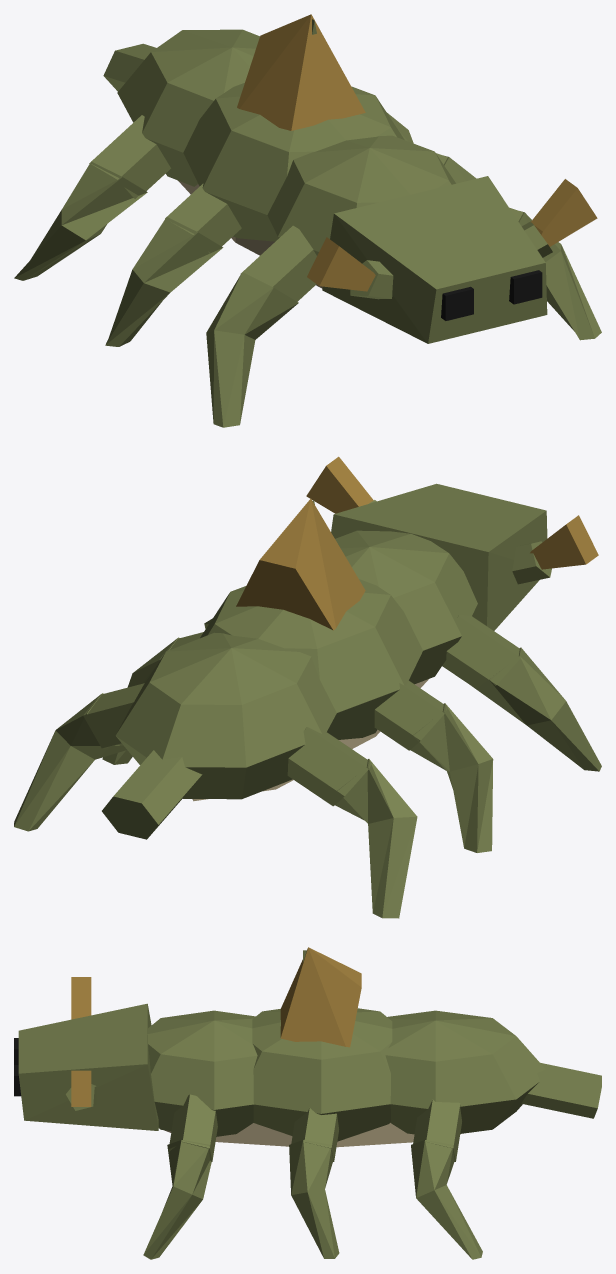
The model's file is budriv.glb.
The picture shows the model from 3 angles, top to bottom: view 1: azimuth 30°, elevation 25°; view 2: azimuth 150°, elevation 25°; view 3: azimuth 270°, elevation 25°; orthographic projection. The views are drawn at different scales.
Parts seen in each view (by area): view 1: Budriv; view 2: Budriv; view 3: Budriv.
Boxes of the visible parts, x1,y1,x2,y2 form: Budriv: (14, 14, 601, 427); Budriv: (14, 456, 601, 918); Budriv: (14, 947, 601, 1259).
Size of the model in its own units: 0.44 by 0.32 by 0.72.
